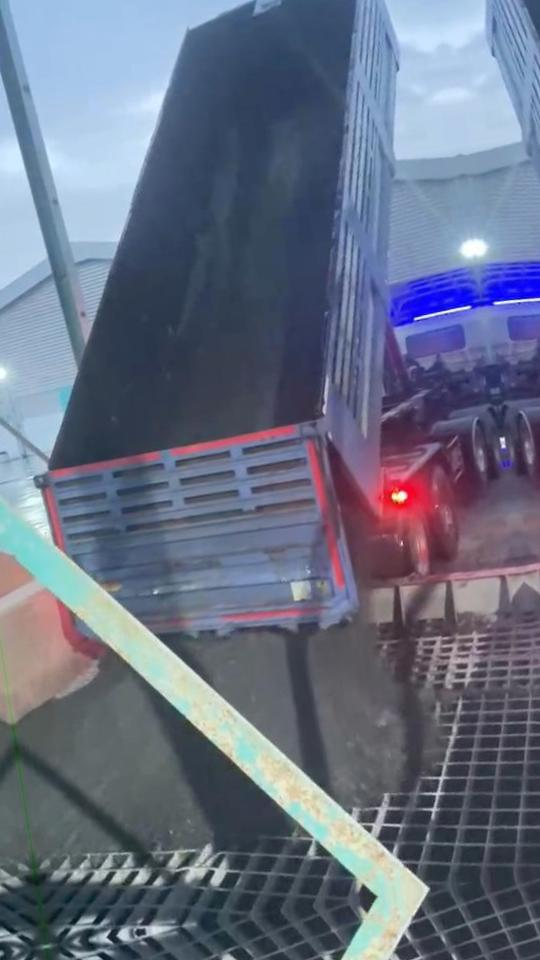gravel: (17, 653, 292, 860), (62, 244, 315, 464), (164, 619, 437, 807), (438, 683, 500, 703)
sand: (0, 545, 31, 601)
